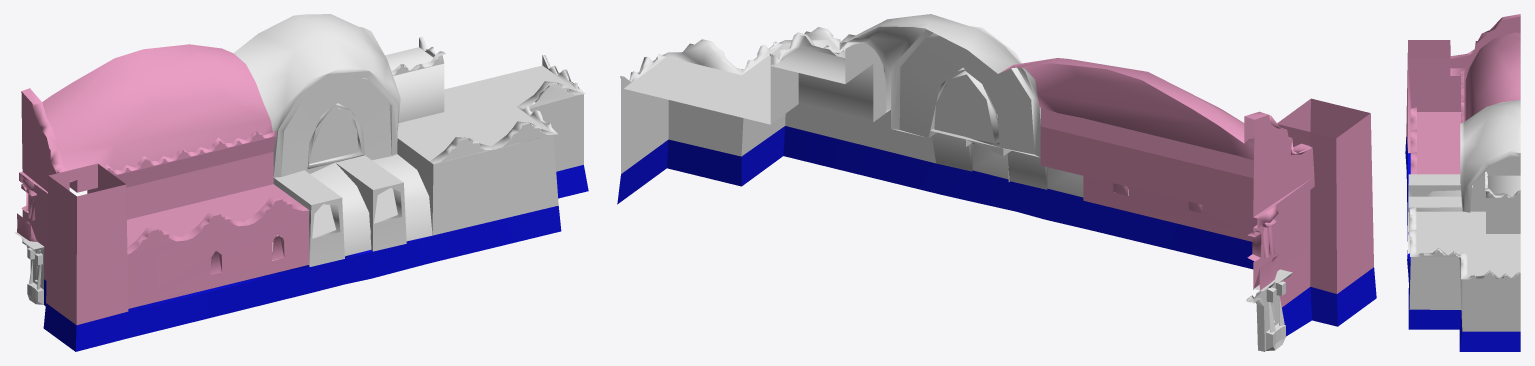
Rendered from churchEx_LOD2.fbx.
3 renders of one model, left to right at view 1: azimuth 30°, elevation 25°; view 2: azimuth 150°, elevation 25°; view 3: azimuth 270°, elevation 25°, orthographic. The views are drawn at different scales.
Visible parts, largest first — view 1: ChurchEx_LOD2; view 2: ChurchEx_LOD2; view 3: ChurchEx_LOD2.
Boxes of the visible parts, box(x1,y1,x2,y2) form: ChurchEx_LOD2: box(14, 14, 588, 351); ChurchEx_LOD2: box(617, 14, 1376, 351); ChurchEx_LOD2: box(1405, 14, 1520, 351).
Bounding box in the file's own units: 4450 × 1629 × 1088.
